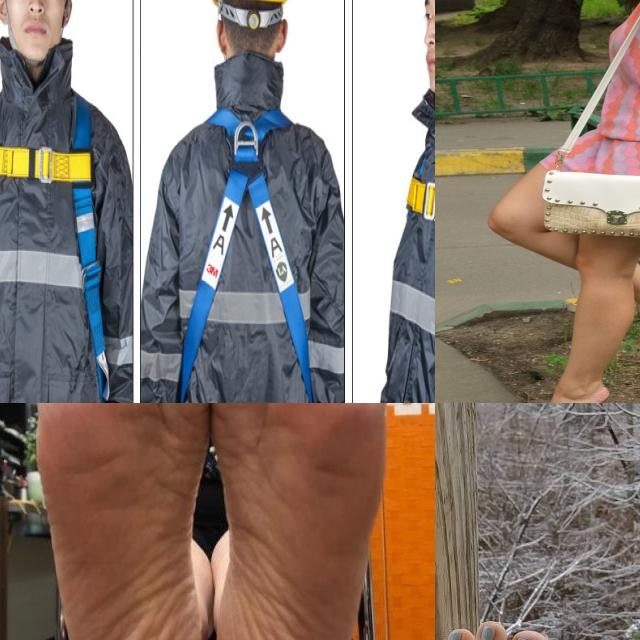Barefoots: (20, 403, 211, 640), (209, 403, 398, 640), (525, 382, 609, 403)
Harness: (174, 97, 316, 403), (0, 94, 113, 403)
No_Ear-Protection: (0, 0, 6, 26)
No_Glasses: (421, 0, 435, 26)
